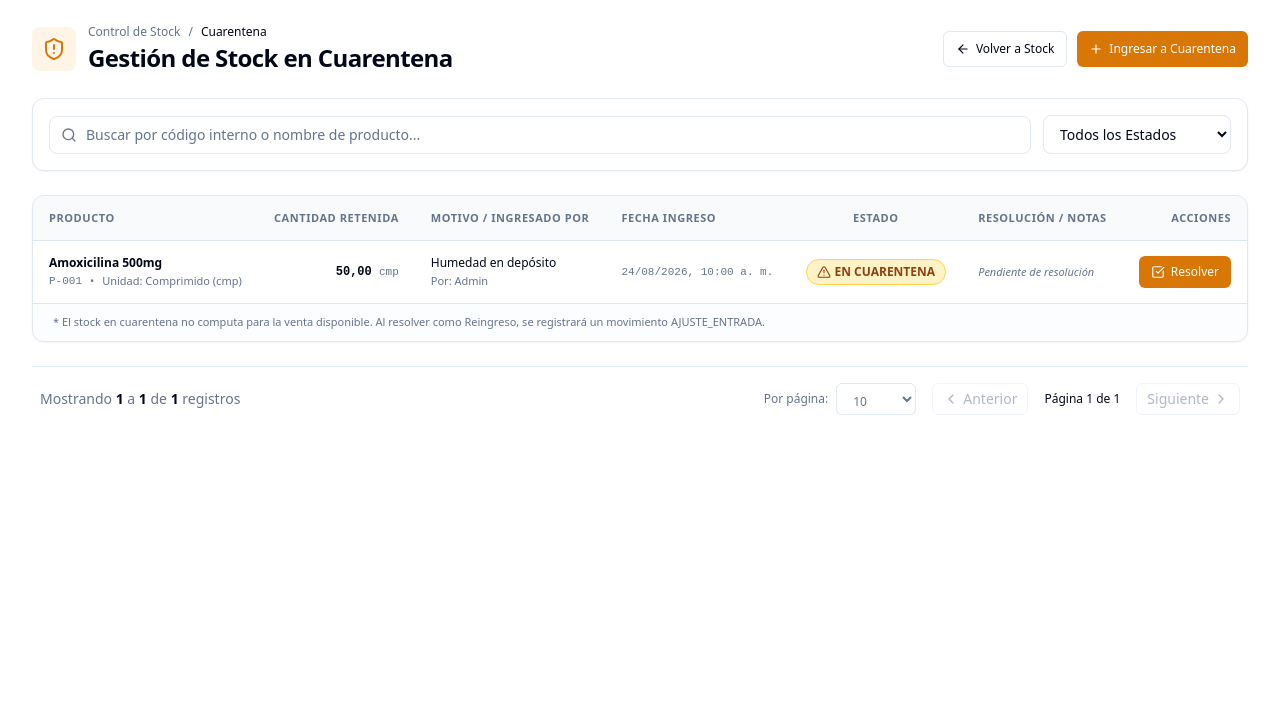
Test: StockQuarantinePage Integration › opens create modal when clicking Ingresar a Cuarentena button
Click the button with test id "open-quarantine-create-modal-btn" at {"x": 1163, "y": 49}, box [1077,31,1248,67]
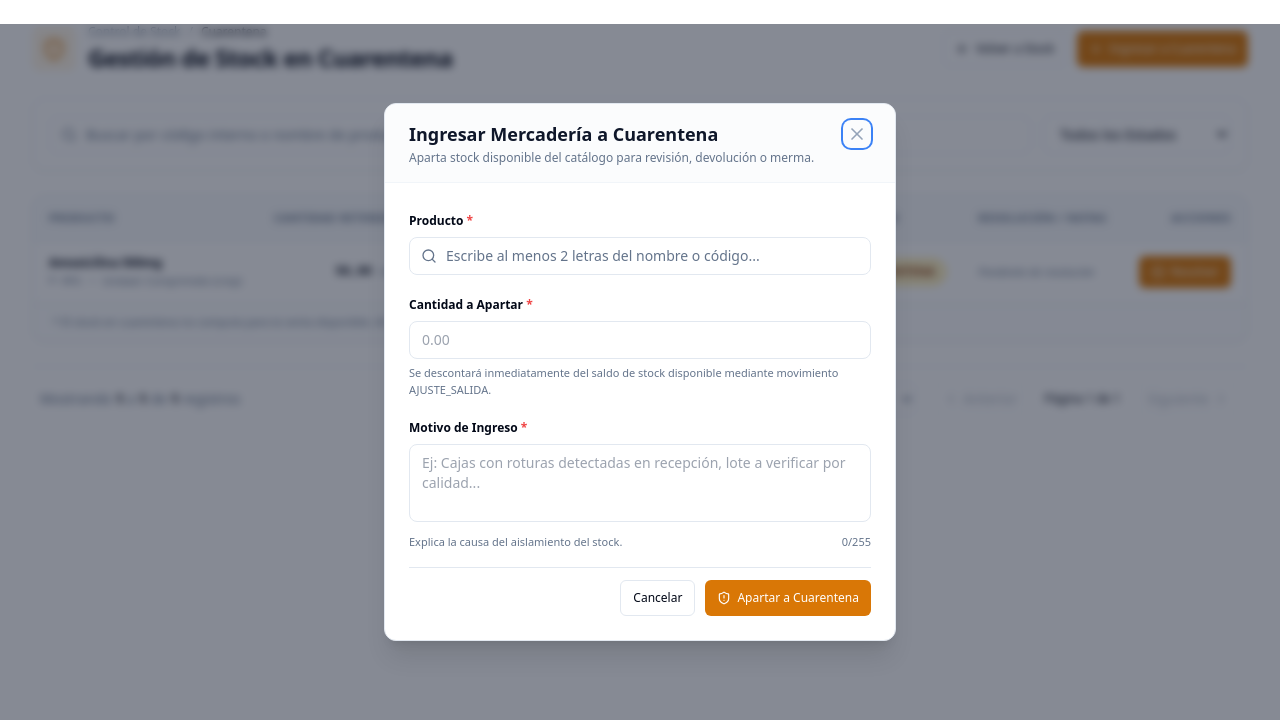
Check: the form with test id "quarantine-create-form" is shown, box [409,207,871,616]
